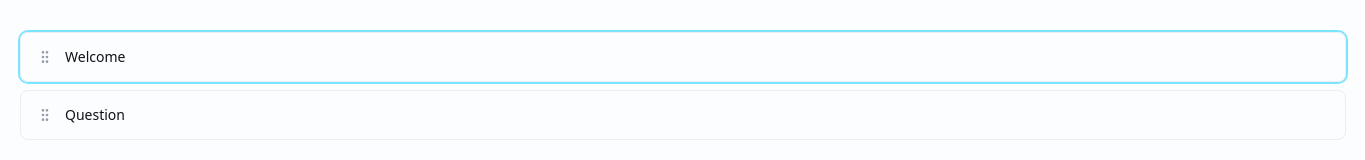
Scenario: SlideSequenceSidebar › should show slide context menu on right click
The image size is (1365, 160).
Step 1. Right-click the button with test id "slide-slide-1" → (95, 56), box [20, 32, 1346, 82]
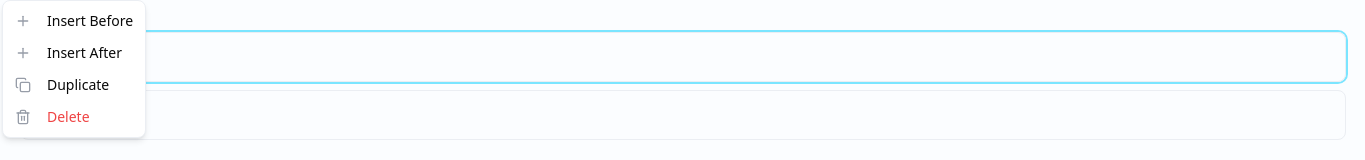
Check: the menu with test id "slide-context-menu" is shown, box [2, 0, 146, 138]
